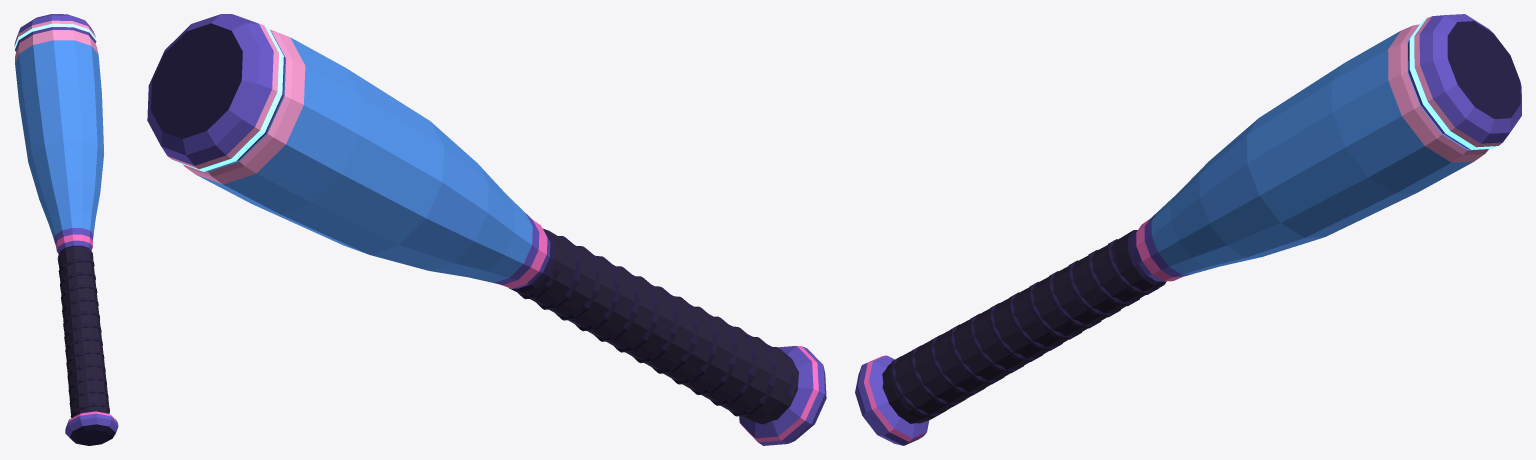
File: Bat.fbx
3 renders of one model, left to right at view 1: azimuth 30°, elevation 25°; view 2: azimuth 150°, elevation 25°; view 3: azimuth 270°, elevation 25°, orthographic. The views are drawn at different scales.
Visible parts, largest first — view 1: Barrel_Body, Grip_Grip, WrapSeam_Dark, WrapSeam_Grip, Barrel_Panel, Cap_Metal, Knob_Dark, Knob_Metal, Barrel_Metal, Cap_Neon, Cap_Panel, Barrel_Accent (+1 smaller); view 2: Barrel_Body, Grip_Grip, Cap_Dark, Cap_Metal, WrapSeam_Dark, Barrel_Panel, Knob_Metal, WrapSeam_Grip, Cap_Panel, Cap_Neon, Barrel_Metal, Knob_Accent (+1 smaller); view 3: Barrel_Body, Grip_Grip, Cap_Metal, Cap_Dark, WrapSeam_Dark, Barrel_Panel, WrapSeam_Grip, Knob_Metal, Cap_Panel, Cap_Neon, Barrel_Metal, Barrel_Accent (+1 smaller).
Part boxes in pixels (box(x1,y1,x2,y2)): Barrel_Body: box(15, 40, 104, 238); Grip_Grip: box(58, 247, 109, 416); WrapSeam_Dark: box(58, 258, 109, 417); WrapSeam_Grip: box(57, 257, 109, 416); Barrel_Panel: box(15, 30, 98, 63); Cap_Metal: box(15, 14, 96, 51); Knob_Dark: box(70, 424, 114, 445); Knob_Metal: box(65, 411, 118, 437); Barrel_Metal: box(54, 228, 93, 253); Cap_Neon: box(14, 23, 96, 49); Cap_Panel: box(14, 20, 95, 46); Barrel_Accent: box(55, 234, 92, 250); Barrel_Body: box(197, 31, 532, 282); Grip_Grip: box(511, 231, 798, 424); Cap_Dark: box(151, 23, 242, 138); Cap_Metal: box(147, 14, 284, 165); WrapSeam_Dark: box(518, 236, 794, 415); Barrel_Panel: box(183, 29, 305, 184); Knob_Metal: box(739, 346, 826, 445); WrapSeam_Grip: box(523, 236, 796, 416); Cap_Panel: box(168, 15, 278, 169); Cap_Neon: box(173, 25, 283, 171); Barrel_Metal: box(494, 213, 550, 288); Knob_Accent: box(741, 346, 818, 442); Barrel_Body: box(1151, 25, 1488, 274); Grip_Grip: box(882, 230, 1163, 423); Cap_Metal: box(1408, 14, 1521, 149); Cap_Dark: box(1447, 21, 1520, 118); WrapSeam_Dark: box(890, 239, 1158, 416); Barrel_Panel: box(1388, 24, 1488, 162); WrapSeam_Grip: box(890, 243, 1148, 417); Knob_Metal: box(855, 355, 929, 445); Cap_Panel: box(1414, 16, 1502, 147); Cap_Neon: box(1409, 18, 1497, 149); Barrel_Metal: box(1132, 212, 1192, 281); Barrel_Accent: box(1136, 219, 1181, 281).
Size of the model in its own units: 1.24 by 1.93 by 2.24.
